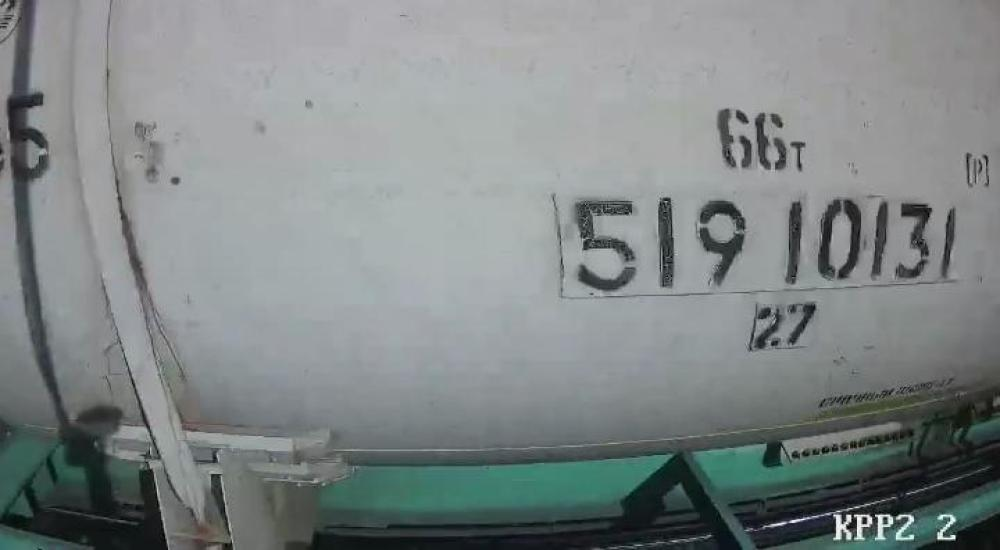Wagon-number: (570, 193, 963, 294)
